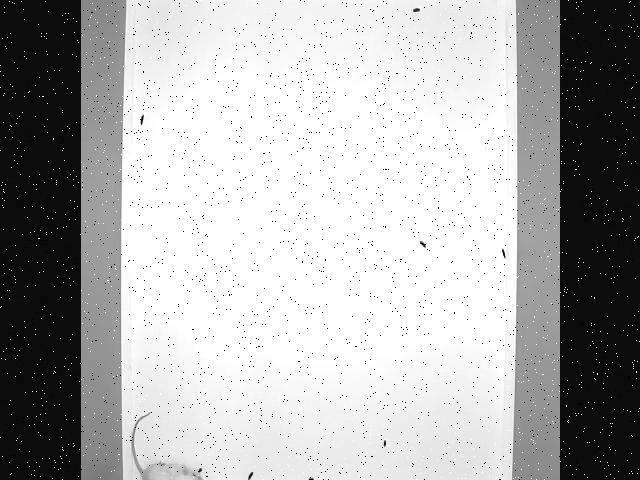Tikus: (129, 413, 201, 480)
